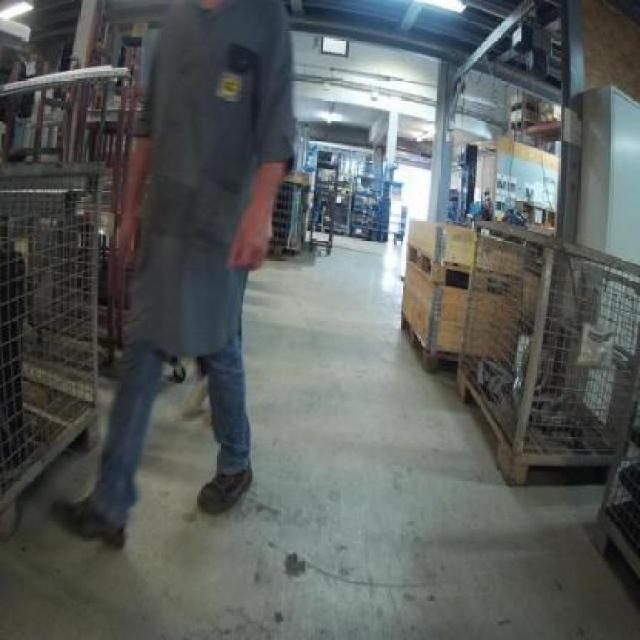pallet: (392, 234, 509, 295)
